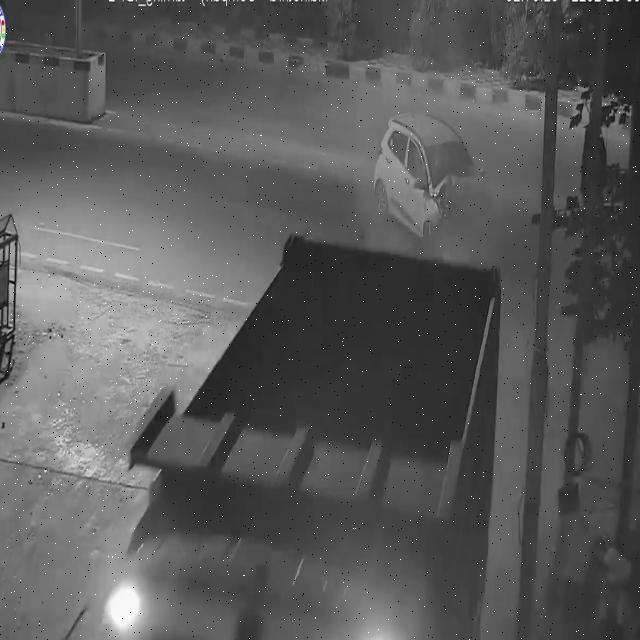accident: (368, 109, 493, 246)
